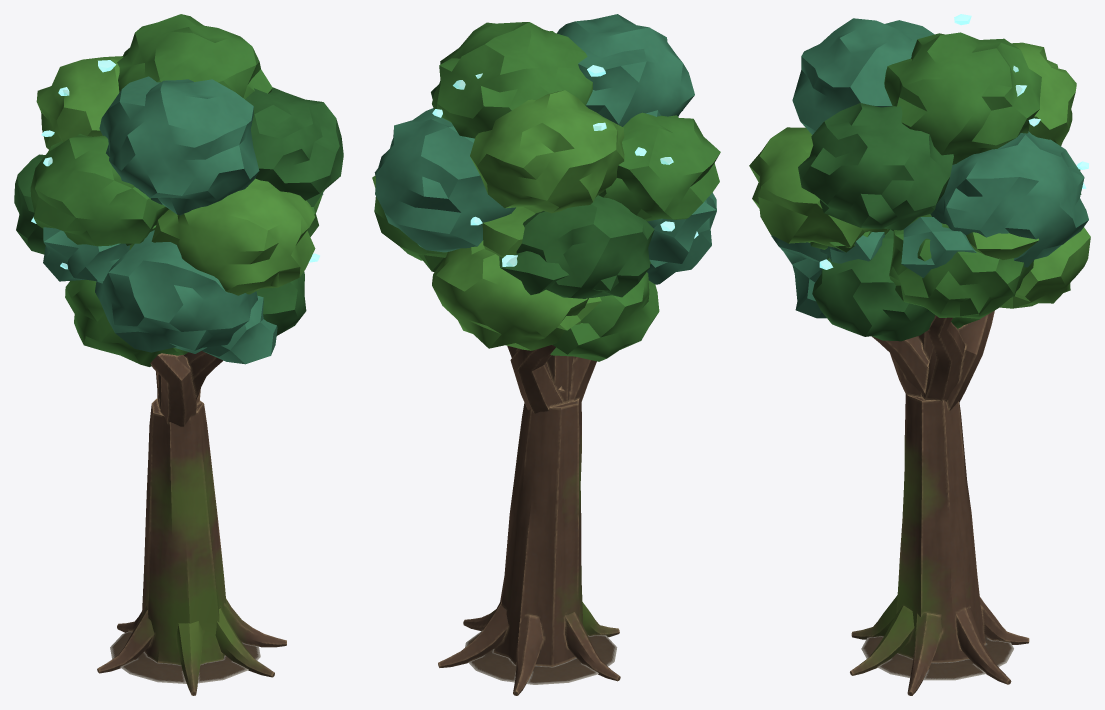
The model's file is arbol_roble_espacial.fbx.
The picture shows the model from 3 angles, left to right: view 1: azimuth 30°, elevation 25°; view 2: azimuth 150°, elevation 25°; view 3: azimuth 270°, elevation 25°; orthographic projection. The views are drawn at different scales.
Visible parts, largest first — view 1: arbol_roble_espacial, arbol_roble_espacial_puntas_neon; view 2: arbol_roble_espacial, arbol_roble_espacial_puntas_neon; view 3: arbol_roble_espacial, arbol_roble_espacial_puntas_neon.
Boxes of the visible parts, x1,y1,x2,y2 form: arbol_roble_espacial: (14, 14, 343, 695); arbol_roble_espacial_puntas_neon: (31, 60, 319, 269); arbol_roble_espacial: (372, 14, 720, 695); arbol_roble_espacial_puntas_neon: (432, 65, 698, 266); arbol_roble_espacial: (749, 18, 1090, 695); arbol_roble_espacial_puntas_neon: (819, 14, 1088, 269).
Size of the model in its own units: 6.68 by 13.47 by 6.7.
Materials: 2 (1 with a texture image).
